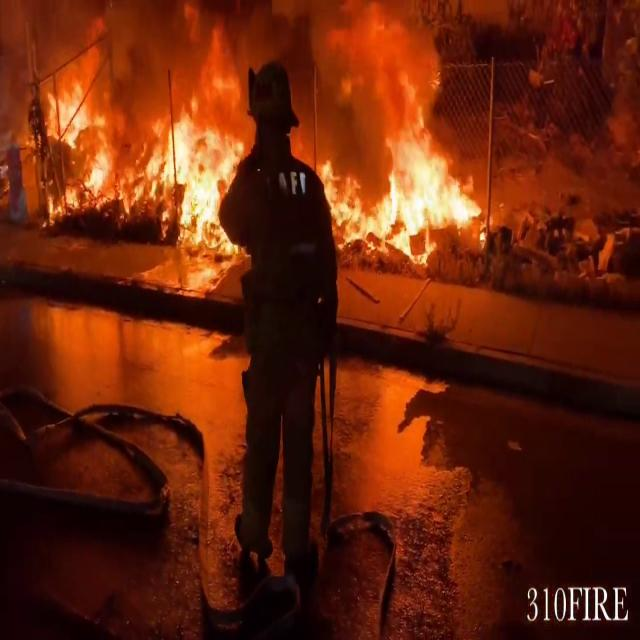Fire: (40, 56, 249, 250), (329, 130, 494, 270)
